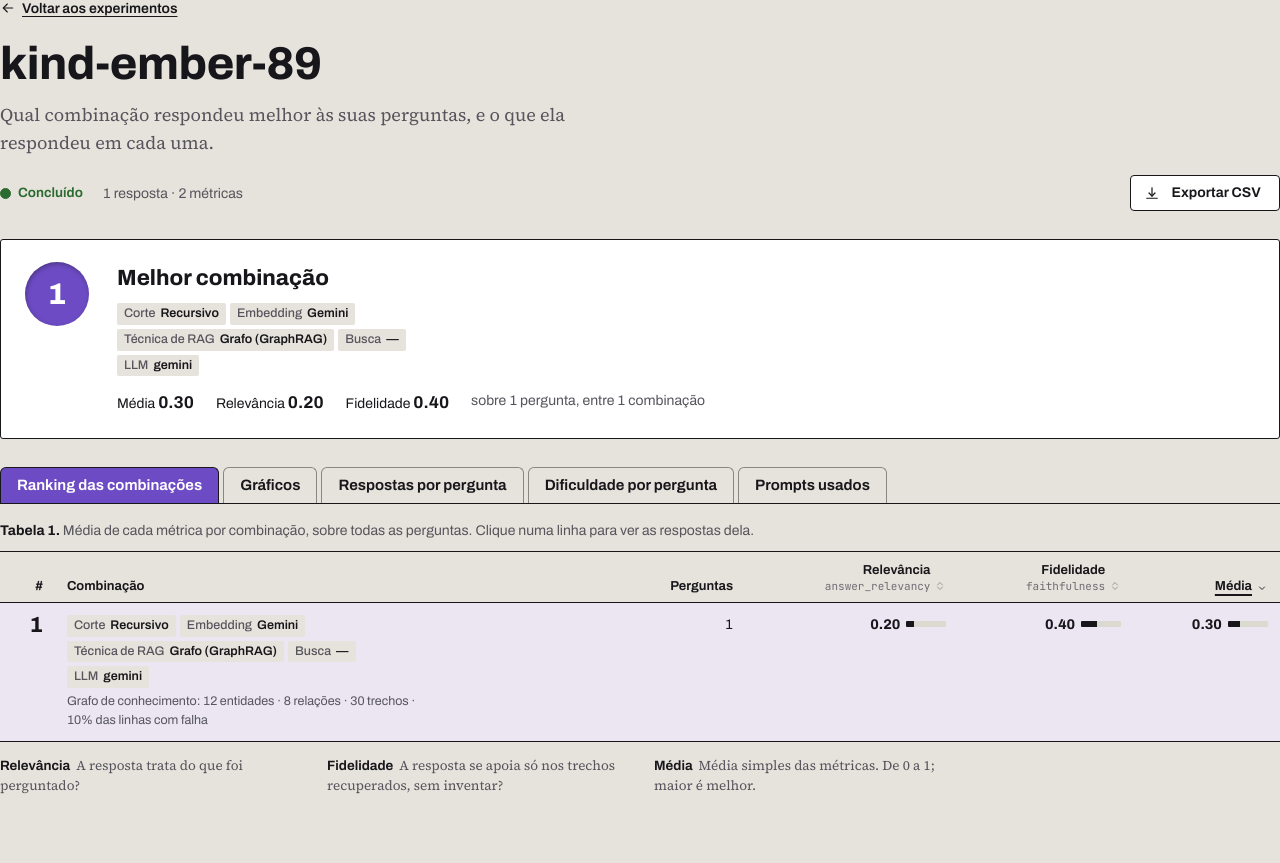
Test: ExperimentDetailPage › a GraphRAG combination › explains the answer with the entities found and the facts used
Click the tab "Respostas por pergunta".
click(422, 485)  # box 321,467 -> 524,503
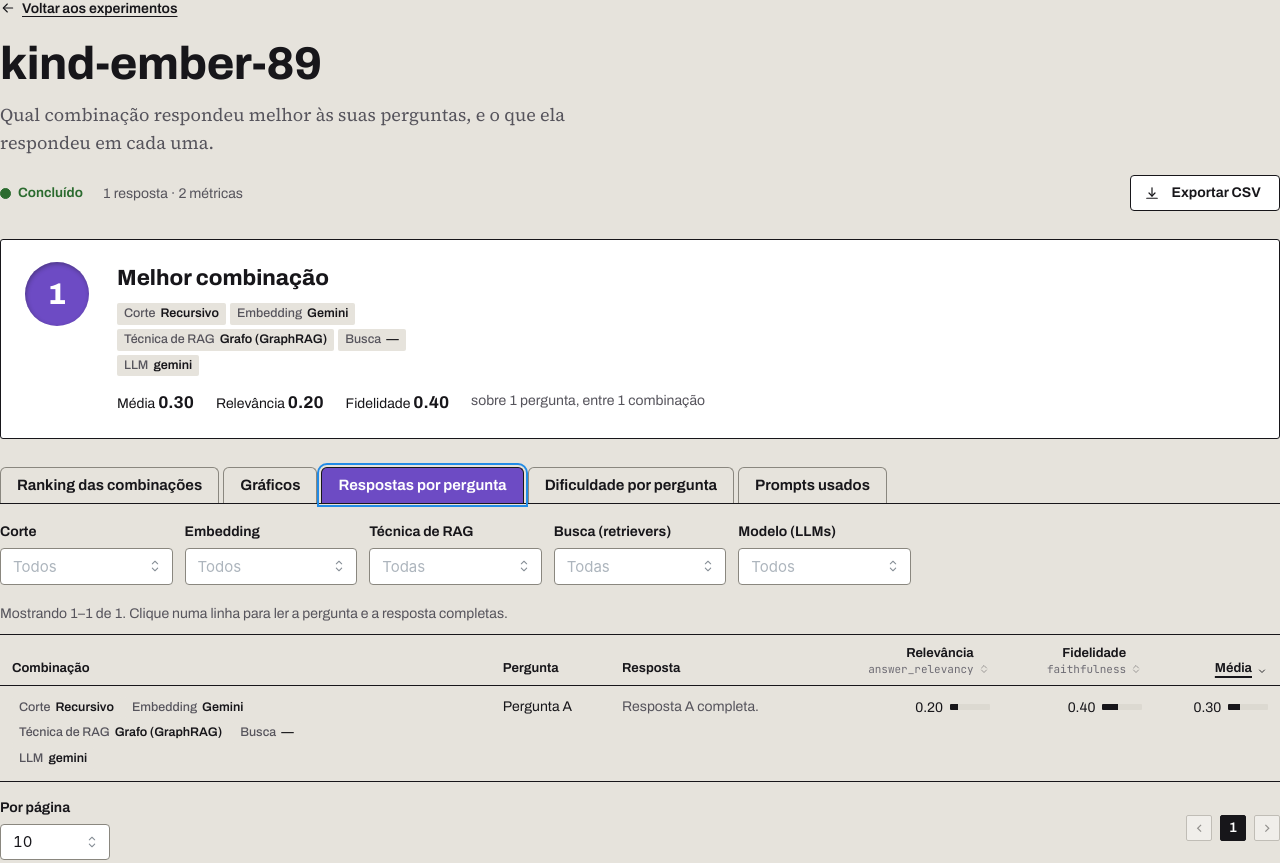
Click the button "Pergunta A".
click(537, 706)  # box 503,697 -> 572,716
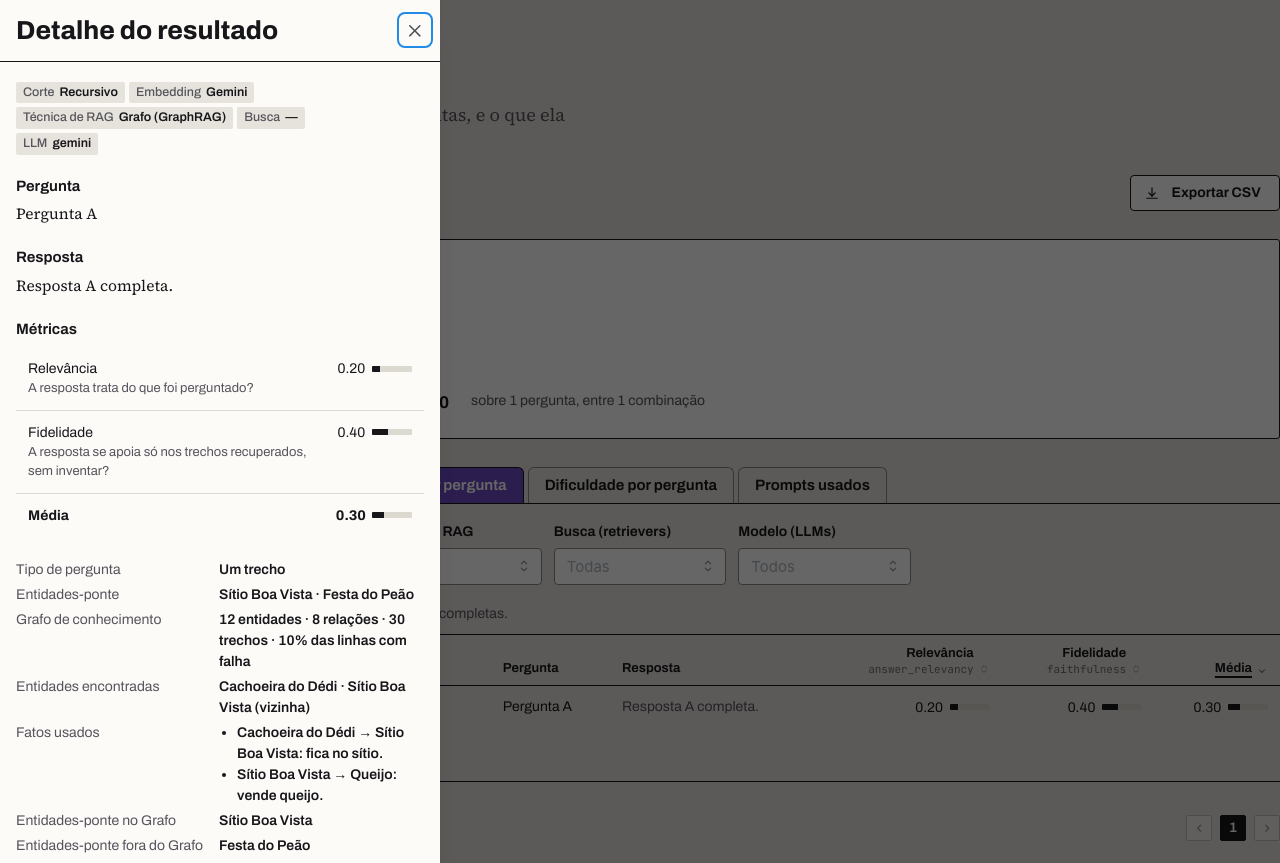
Expected: the list items read "Cachoeira do Dédi → Sítio Boa Vista: fica no sítio.", "Sítio Boa Vista → Queijo: vende queijo.", in this order, 237,722 -> 424,764; 237,764 -> 424,806
